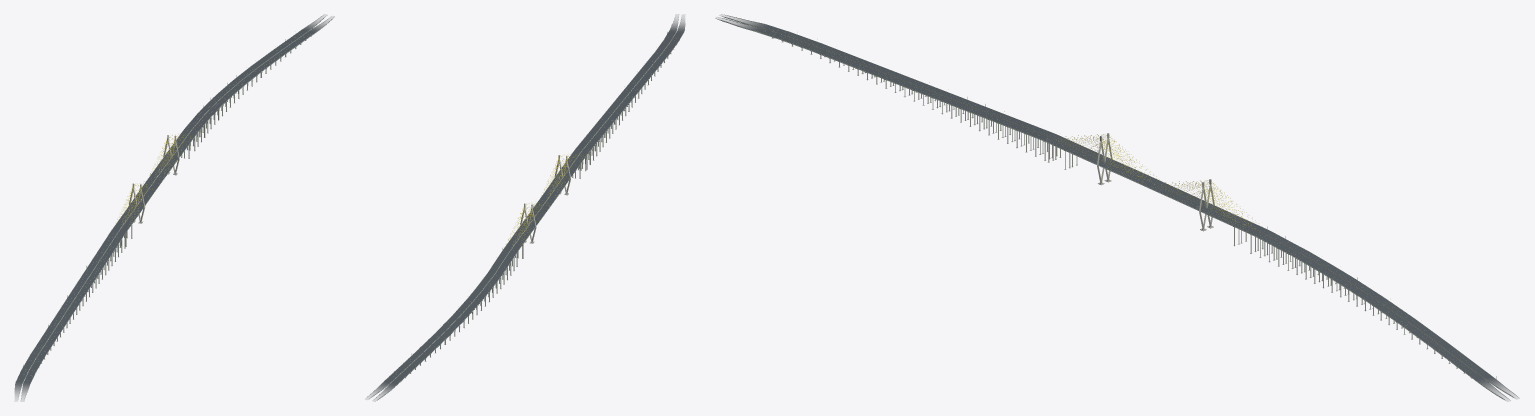
Rendered from fred-hartman-bridge-near.glb.
3 renders of one model, left to right at view 1: azimuth 30°, elevation 25°; view 2: azimuth 210°, elevation 25°; view 3: azimuth 270°, elevation 25°, orthographic. The views are drawn at different scales.
Parts seen in each view (by area): view 1: fred-hartman-bridge-0-asphalt, fred-hartman-bridge-1-asphalt, fred-hartman-bridge-2-asphalt, fred-hartman-bridge-2-concrete, fred-hartman-bridge-1-concrete, fred-hartman-bridge-0-concrete, fred-hartman-bridge-1-cable, fred-hartman-bridge-1-tower; view 2: fred-hartman-bridge-2-asphalt, fred-hartman-bridge-1-asphalt, fred-hartman-bridge-0-asphalt, fred-hartman-bridge-1-concrete, fred-hartman-bridge-2-concrete, fred-hartman-bridge-0-concrete, fred-hartman-bridge-1-cable, fred-hartman-bridge-1-tower; view 3: fred-hartman-bridge-2-asphalt, fred-hartman-bridge-1-asphalt, fred-hartman-bridge-0-asphalt, fred-hartman-bridge-1-concrete, fred-hartman-bridge-0-concrete, fred-hartman-bridge-2-concrete, fred-hartman-bridge-1-cable.
Part boxes in pixels (<box>): fred-hartman-bridge-0-asphalt: <box>14,255,109,401</box>; fred-hartman-bridge-1-asphalt: <box>95,123,203,257</box>; fred-hartman-bridge-2-asphalt: <box>190,14,334,124</box>; fred-hartman-bridge-2-concrete: <box>189,14,334,137</box>; fred-hartman-bridge-1-concrete: <box>95,123,203,270</box>; fred-hartman-bridge-0-concrete: <box>14,256,109,401</box>; fred-hartman-bridge-1-cable: <box>116,134,195,227</box>; fred-hartman-bridge-1-tower: <box>129,135,179,222</box>; fred-hartman-bridge-2-asphalt: <box>365,260,509,401</box>; fred-hartman-bridge-1-asphalt: <box>496,131,603,262</box>; fred-hartman-bridge-0-asphalt: <box>590,14,685,132</box>; fred-hartman-bridge-1-concrete: <box>496,131,604,275</box>; fred-hartman-bridge-2-concrete: <box>365,260,510,401</box>; fred-hartman-bridge-0-concrete: <box>590,14,685,142</box>; fred-hartman-bridge-1-cable: <box>506,154,586,245</box>; fred-hartman-bridge-1-tower: <box>520,155,570,242</box>; fred-hartman-bridge-2-asphalt: <box>1273,240,1519,401</box>; fred-hartman-bridge-1-asphalt: <box>997,117,1285,244</box>; fred-hartman-bridge-0-asphalt: <box>715,14,1009,121</box>; fred-hartman-bridge-1-concrete: <box>996,116,1285,262</box>; fred-hartman-bridge-0-concrete: <box>715,14,1009,135</box>; fred-hartman-bridge-2-concrete: <box>1272,239,1518,401</box>; fred-hartman-bridge-1-cable: <box>1051,134,1258,228</box>.
Bounding box in the file's own units: 2341 × 136 × 2056.
